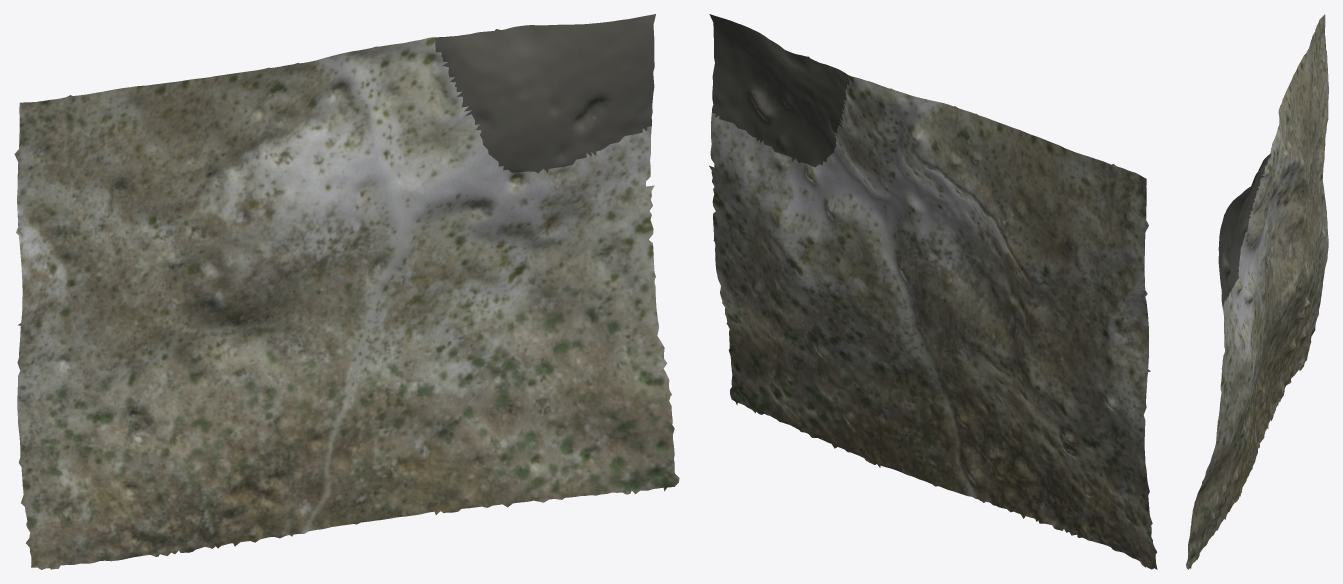
File: tile_4.obj
3 renders of one model, left to right at view 1: azimuth 30°, elevation 25°; view 2: azimuth 150°, elevation 25°; view 3: azimuth 270°, elevation 25°, orthographic. The views are drawn at different scales.
Bounding box in the file's own units: 2.07 × 1.6 × 0.5902.
1 material, 1 textured.
